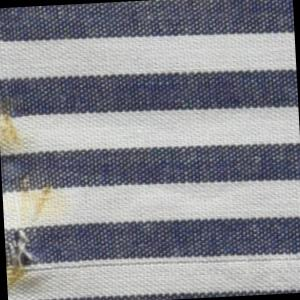Damage: (5, 222, 43, 286)
Oil Stain: (1, 89, 69, 296)
